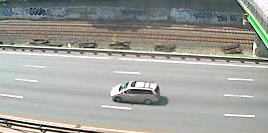car: (106, 78, 165, 107)
